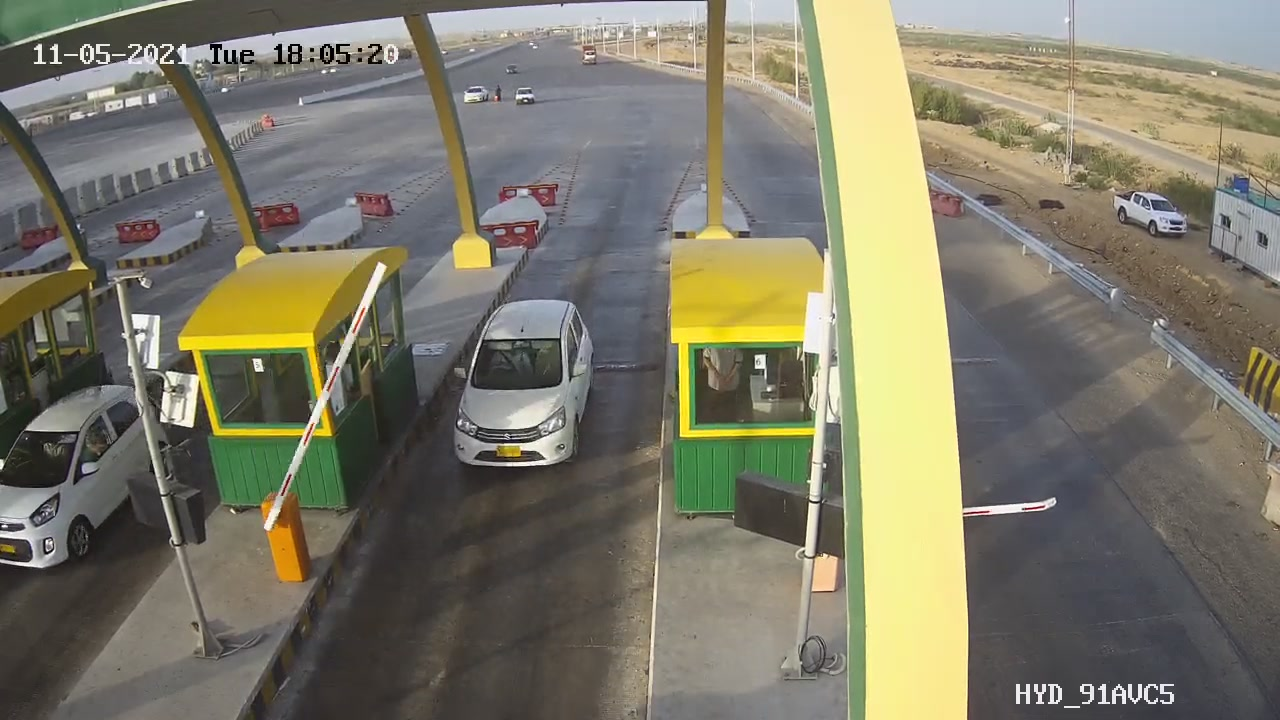F1: (435, 294, 625, 499)
